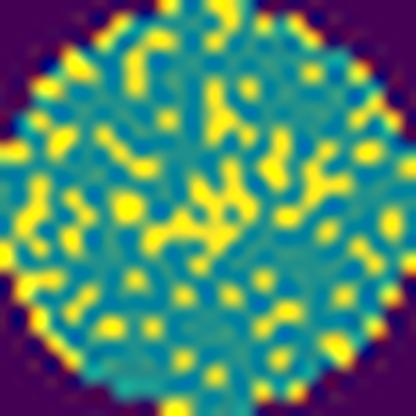Center: (139, 159, 266, 263)
